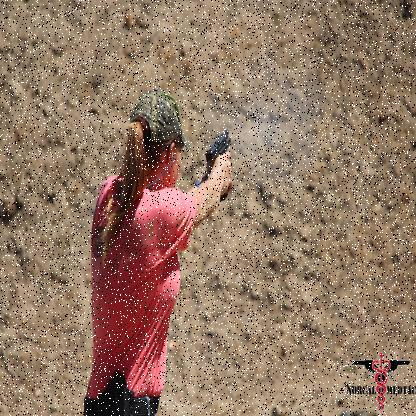pistol: (205, 127, 232, 204)
